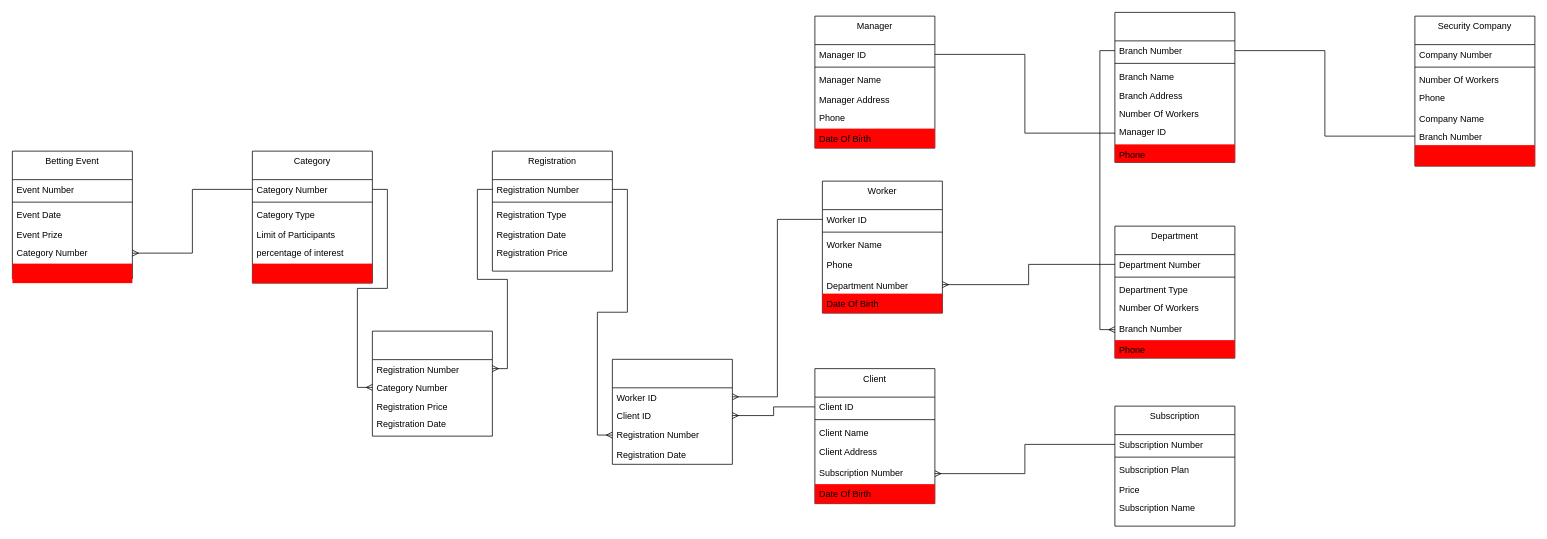
This 1547x539 diagram has some shape labels left out. The shapes that lost their labels are listed below. From the top down, each one's box as (x1, y1, x2, y2) in pixels, then its label:
(1114, 12, 1235, 162): Company Branch
(1414, 145, 1534, 166): Years Of Service
(12, 263, 132, 283): Event Duration(H)
(252, 263, 372, 283): Date Of Birth Allowed
(372, 330, 492, 436): Offer
(612, 359, 732, 464): Sell
